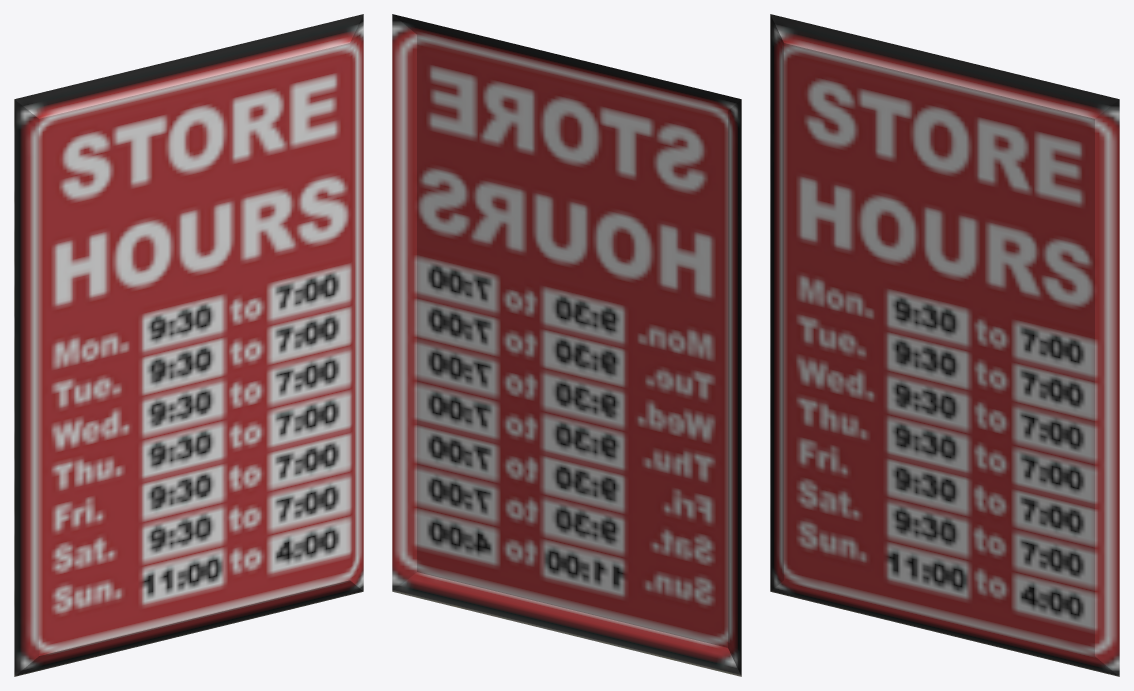
File: Sign-Hours.fbx
3 views of the same model, side by side, from view 1: azimuth 30°, elevation 25°; view 2: azimuth 150°, elevation 25°; view 3: azimuth 330°, elevation 25° (orthographic).
Parts seen in each view (by area): view 1: Sign-Hours; view 2: Sign-Hours; view 3: Sign-Hours.
Part boxes in pixels (x1,y1,x2,y2): Sign-Hours: [14, 14, 363, 676]; Sign-Hours: [392, 14, 741, 676]; Sign-Hours: [770, 14, 1119, 676].
Bounding box in the file's own units: 90.48 × 143 × 2.5.
